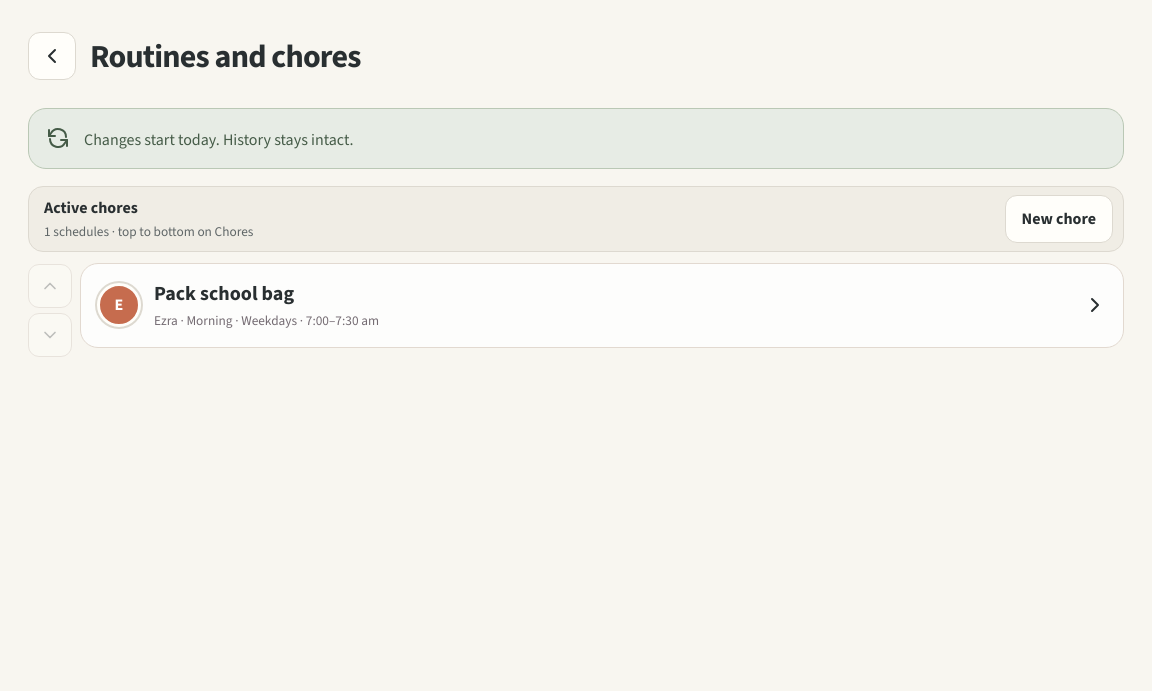
Test case: RoutinesSettingsScreen People picker › starts a new chore with nobody selected and focus does not select a person
Click the button "New chore": (1059, 219) [1005,195,1113,243]
(page scrolled)
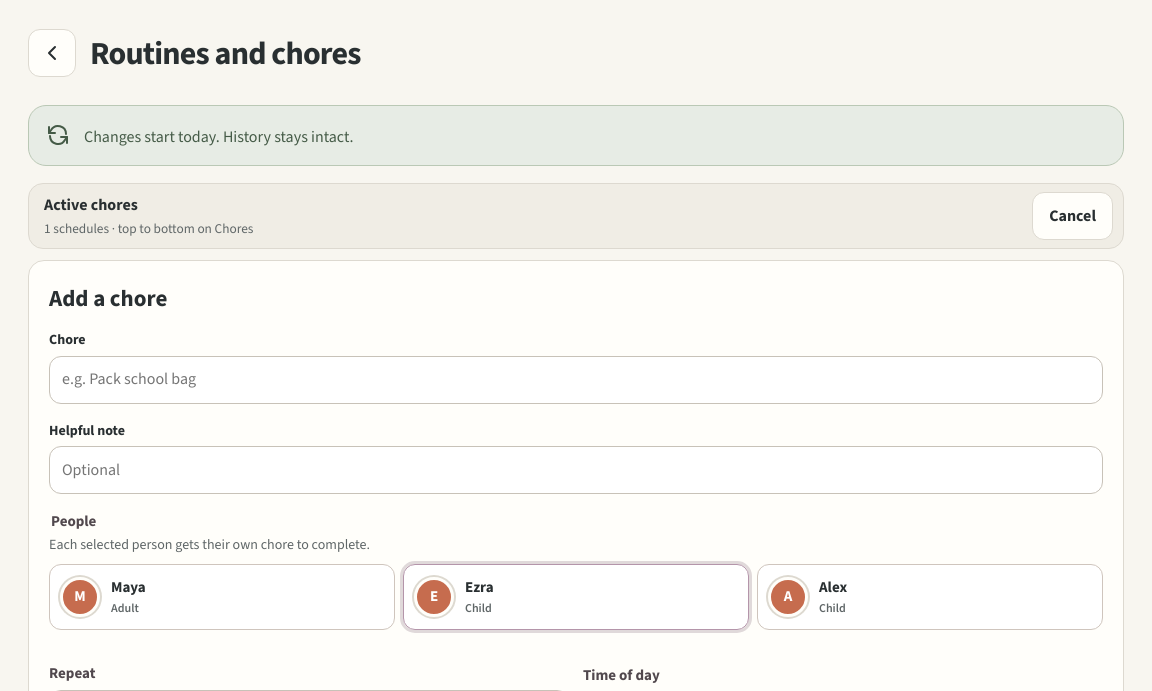
Check: the checkbox labelled "M Maya Adult" is not checked, box [49,564,395,630]
Check: the checkbox labelled "E Ezra Child" is not checked, box [403,564,749,630]
Check: the checkbox labelled "A Alex Child" is not checked, box [757,564,1103,630]
